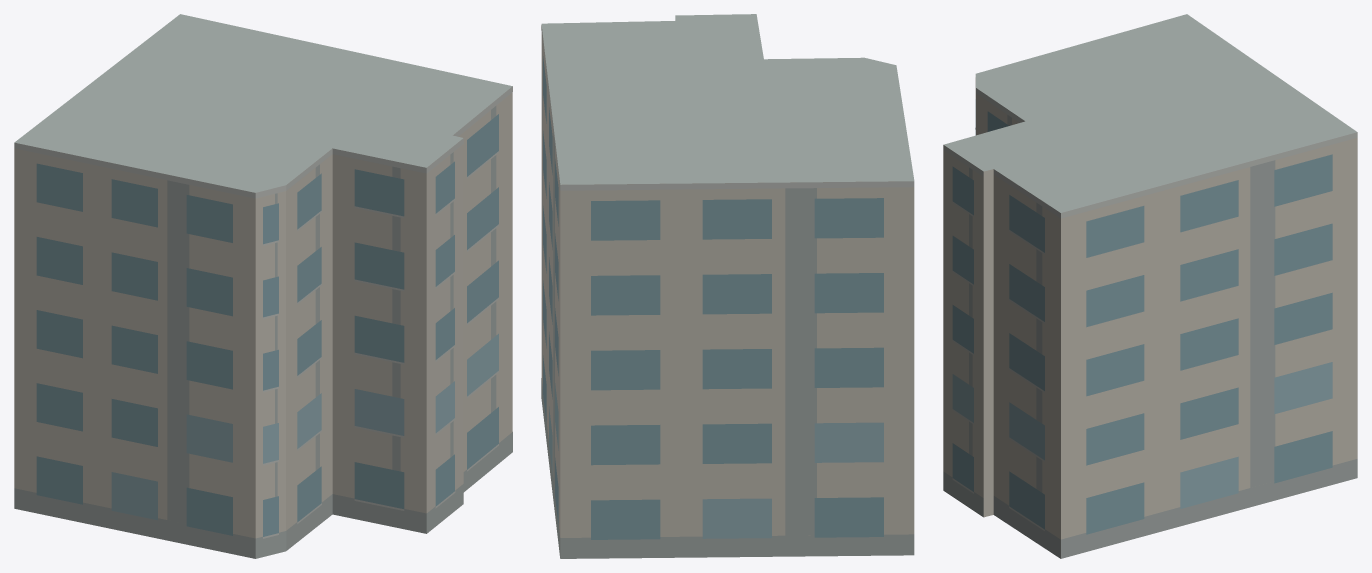
File: survey-upis-32989573.glb
3 renders of one model, left to right at view 1: azimuth 30°, elevation 25°; view 2: azimuth 150°, elevation 25°; view 3: azimuth 270°, elevation 25°, orthographic. The views are drawn at different scales.
Parts seen in each view (by area): view 1: survey-upis-32989573.tmp; view 2: survey-upis-32989573.tmp; view 3: survey-upis-32989573.tmp.
Boxes of the visible parts, box(x1,y1,x2,y2) form: survey-upis-32989573.tmp: box(14, 14, 512, 558); survey-upis-32989573.tmp: box(541, 14, 914, 558); survey-upis-32989573.tmp: box(943, 14, 1357, 558).
Bounding box in the file's own units: 18.99 × 15.38 × 16.71.
